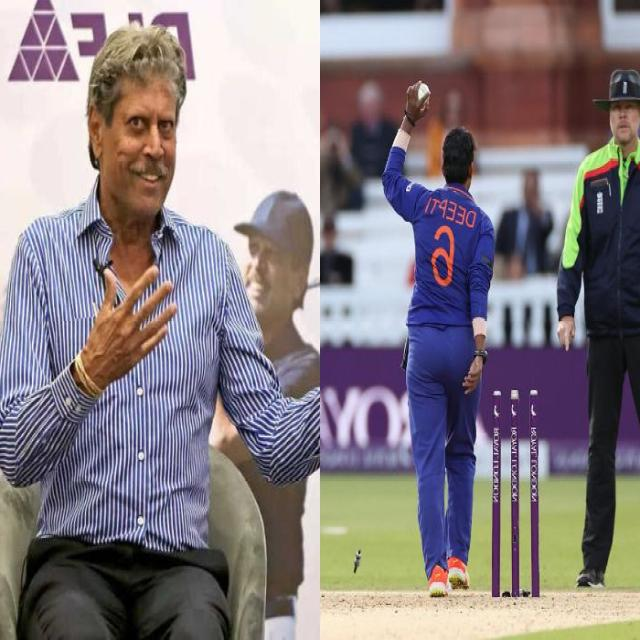stump: (492, 389, 541, 598)
